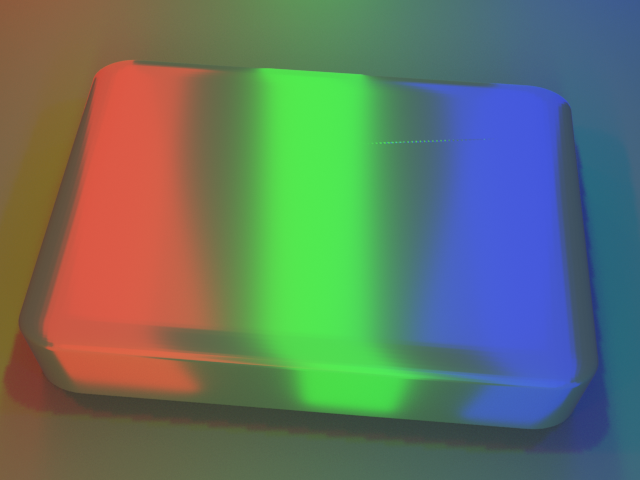scratch: (278, 59, 608, 228)
